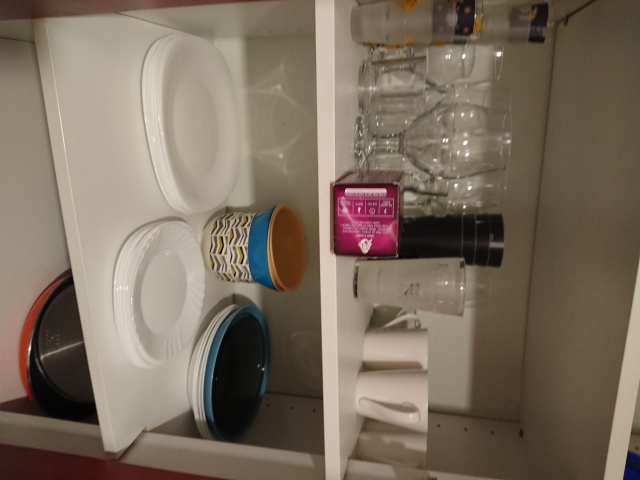Franck Black Currant Tea 60g: (330, 166, 407, 261)
